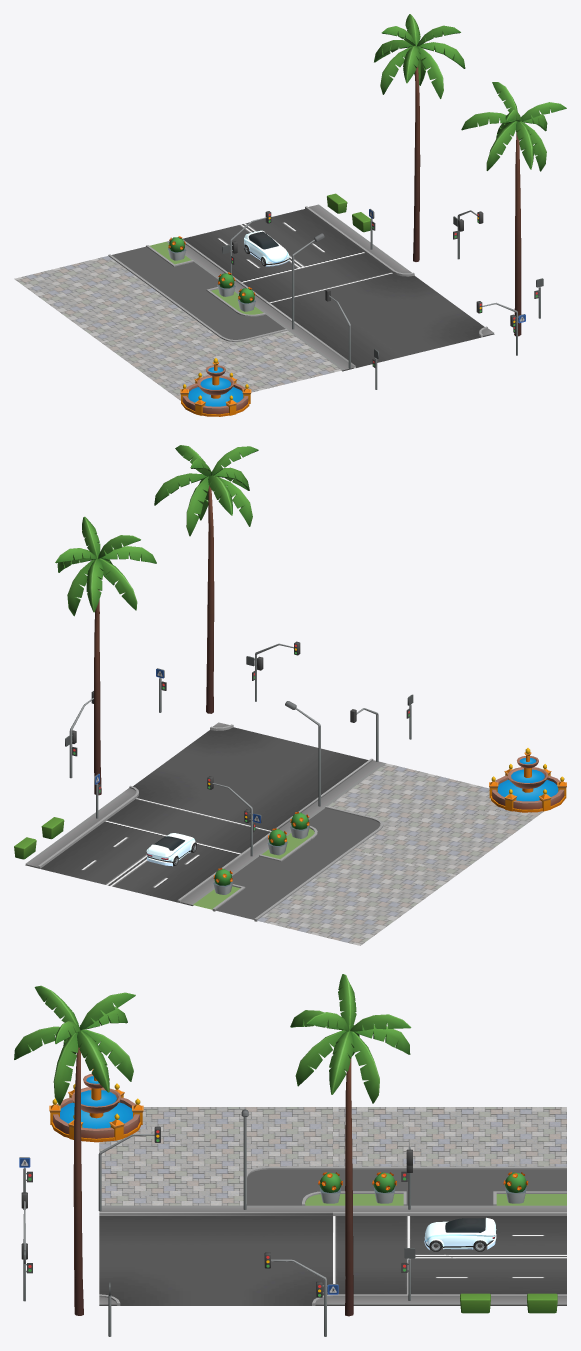
File: north-central-center.gltf
3 views of the same model, one above another, from view 1: azimuth 30°, elevation 25°; view 2: azimuth 150°, elevation 25°; view 3: azimuth 270°, elevation 25° (orthographic). The views are drawn at different scales.
Parts seen in each view (by area): view 1: road_003.008, Set_B_Tiles_04.030, Set_B_Tiles_06.003, road_020.083, Palm_03.064, Palm_03.062, Fountain_03.002, Futuristic_Car_1.001; view 2: Set_B_Tiles_04.030, road_003.008, Set_B_Tiles_06.003, road_020.083, Palm_03.062, Palm_03.064, Fountain_03.002, Futuristic_Car_1.001; view 3: road_003.008, Set_B_Tiles_06.003, Set_B_Tiles_04.030, road_020.083, Palm_03.062, Palm_03.064, Fountain_03.002, Futuristic_Car_1.001, traffic_light_002.565, Bush_10.204, Bush_10.206, Bush_07.025 (+4 smaller).
Boxes of the visible parts, box(x1,y1,x2,y2) form: road_003.008: box(255, 269, 494, 371); Set_B_Tiles_04.030: box(14, 241, 240, 342); Set_B_Tiles_06.003: box(102, 306, 341, 400); road_020.083: box(167, 204, 406, 305); Palm_03.064: box(374, 14, 465, 261); Palm_03.062: box(461, 82, 566, 336); Fountain_03.002: box(180, 358, 251, 416); Futuristic_Car_1.001: box(244, 230, 289, 266); Set_B_Tiles_04.030: box(193, 834, 456, 945); road_003.008: box(122, 722, 385, 833); Set_B_Tiles_06.003: box(290, 763, 543, 874); road_020.083: box(25, 793, 288, 905); Palm_03.062: box(154, 445, 258, 713); Palm_03.064: box(55, 516, 156, 795); Fountain_03.002: box(489, 748, 566, 812); Futuristic_Car_1.001: box(146, 833, 196, 866); road_003.008: box(99, 1205, 332, 1305); Set_B_Tiles_06.003: box(99, 1107, 332, 1205); Set_B_Tiles_04.030: box(333, 1107, 566, 1205); road_020.083: box(333, 1205, 566, 1305); Palm_03.062: box(14, 985, 135, 1315); Palm_03.064: box(290, 974, 411, 1316); Fountain_03.002: box(49, 1068, 143, 1142); Futuristic_Car_1.001: box(424, 1217, 496, 1250); traffic_light_002.565: box(264, 1252, 338, 1336); Bush_10.204: box(460, 1293, 490, 1313); Bush_10.206: box(527, 1293, 557, 1313); Bush_07.025: box(503, 1172, 528, 1203).
Size of the model in its own units: 36.22 by 22.76 by 35.47.
11 materials, 9 textured.
